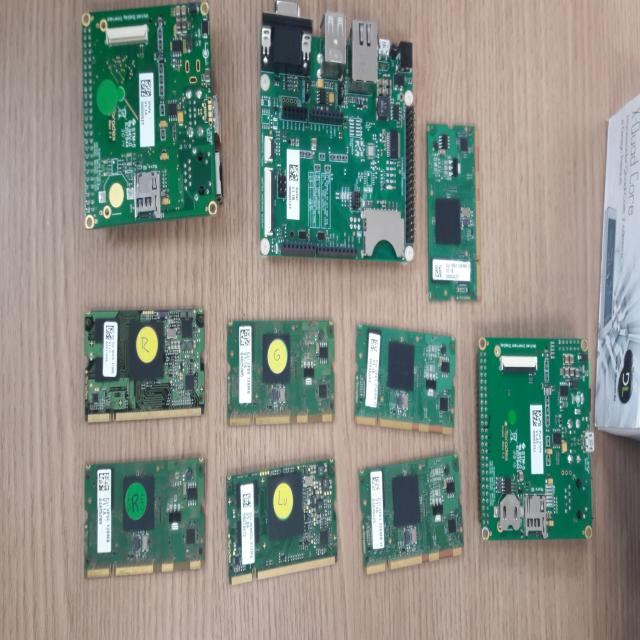som: (81, 450, 212, 585), (226, 451, 345, 587), (82, 306, 209, 425), (362, 445, 466, 577), (354, 312, 459, 439), (225, 316, 339, 432), (426, 115, 488, 310)
